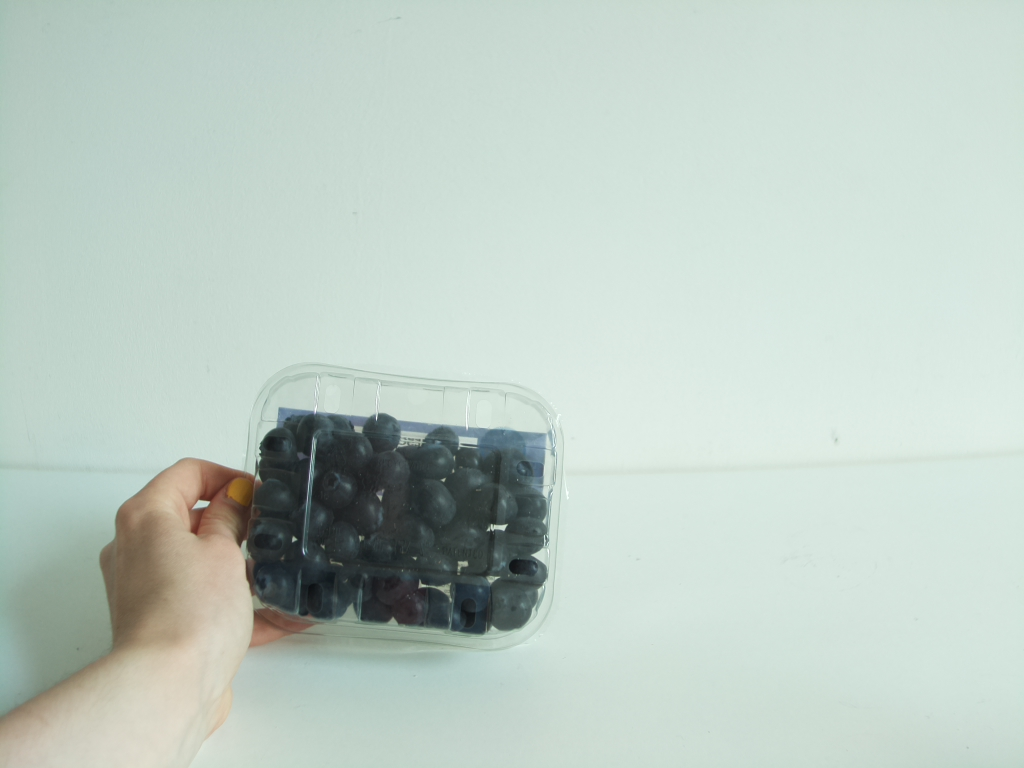soft-fruit: (247, 363, 559, 642)
